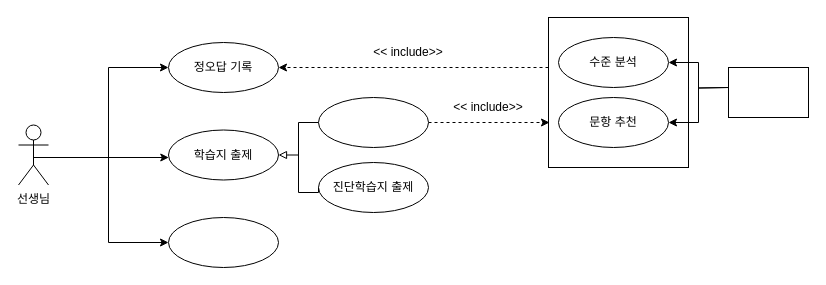
The diagram is 826 pixels wide and 285 high, and some of its shapes have lost their labels. The box of each missing label's shape, as (x1, y1, x2, y2) in pixels:
맞춤학습지 출제: (318, 96, 428, 148)
정오답 확률 예측 AI: (728, 66, 808, 118)
학습자 통계: (168, 216, 278, 268)
